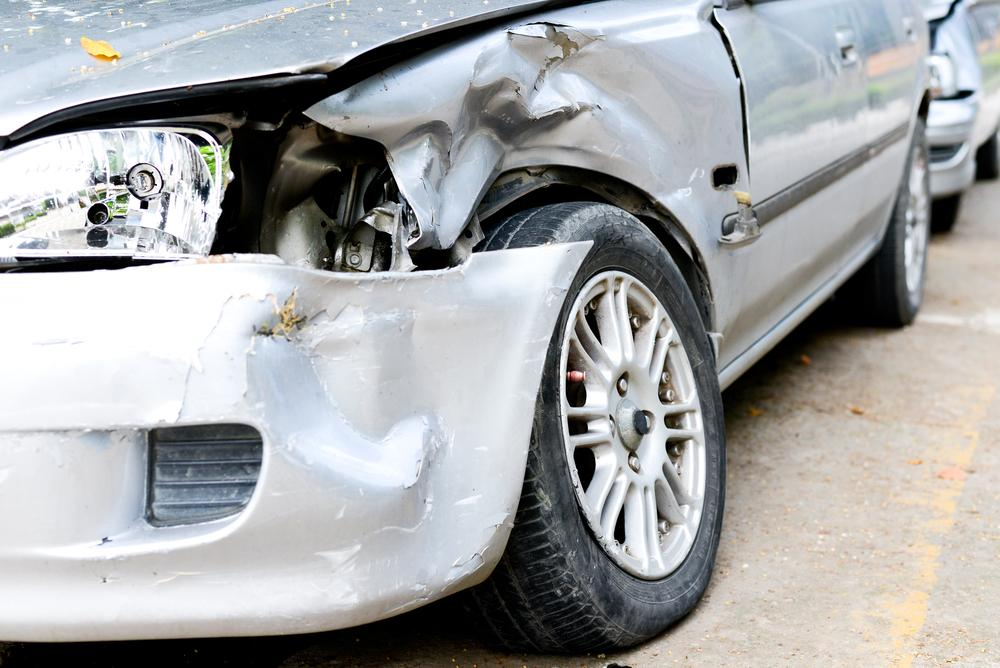dent: (249, 271, 528, 579), (391, 25, 694, 247)
lamp broken: (0, 117, 386, 267)
